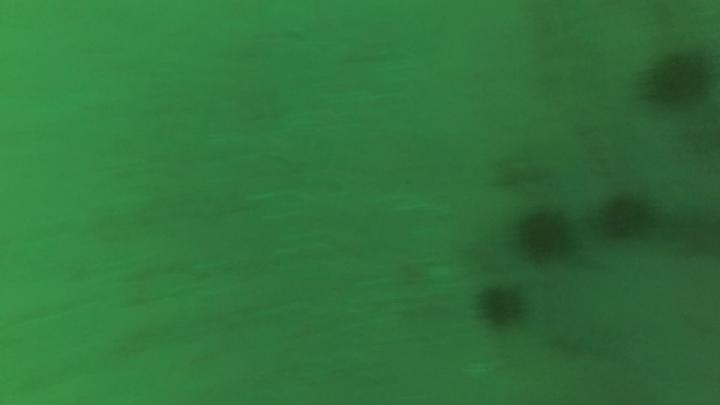echinus: (643, 46, 714, 114), (507, 203, 579, 268), (597, 187, 653, 249), (479, 280, 535, 335)
starfish: (671, 199, 720, 267)
